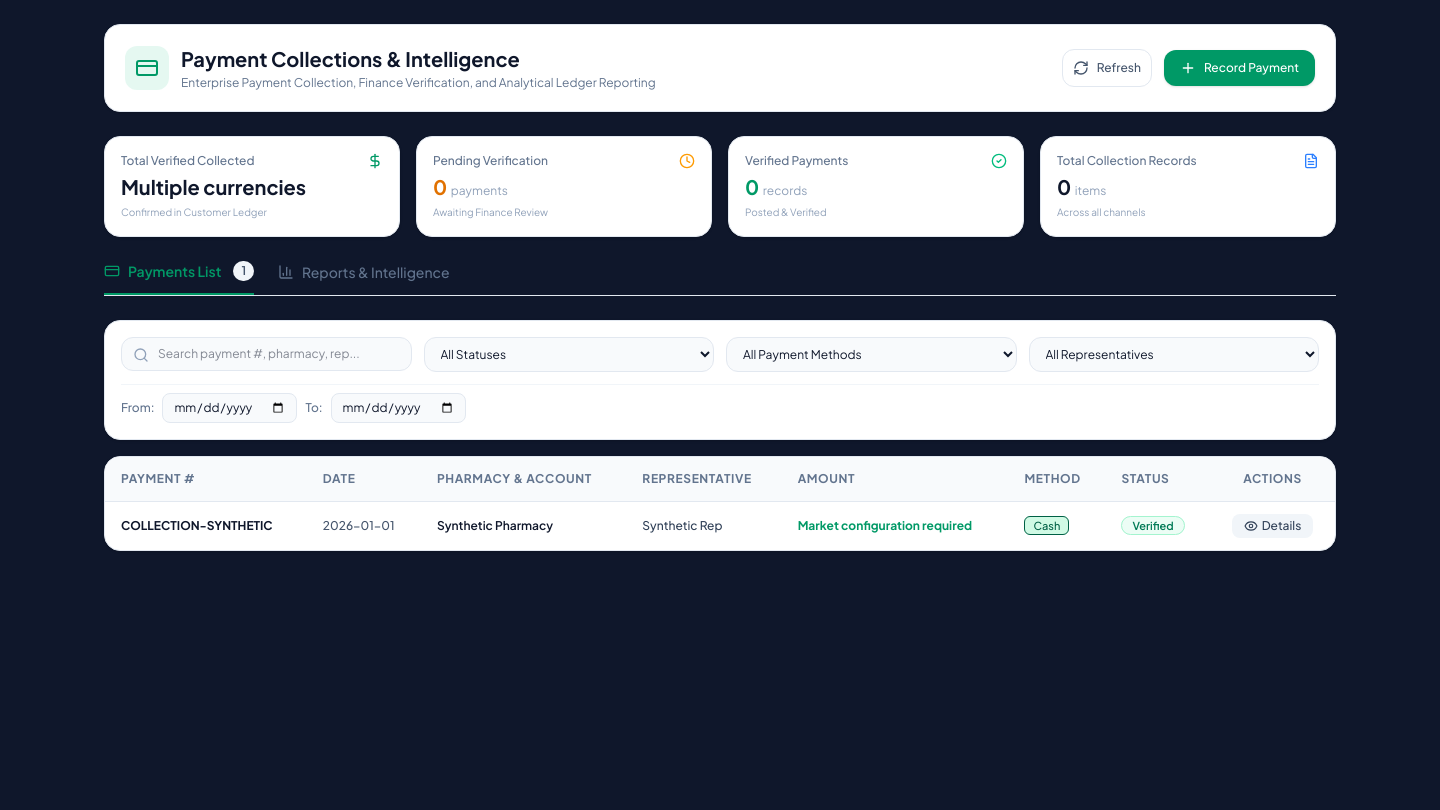
Test: failed eligibility lookup never enables Reverse
Click the button "Details".
click(1273, 526)  # box [1232,514,1313,538]
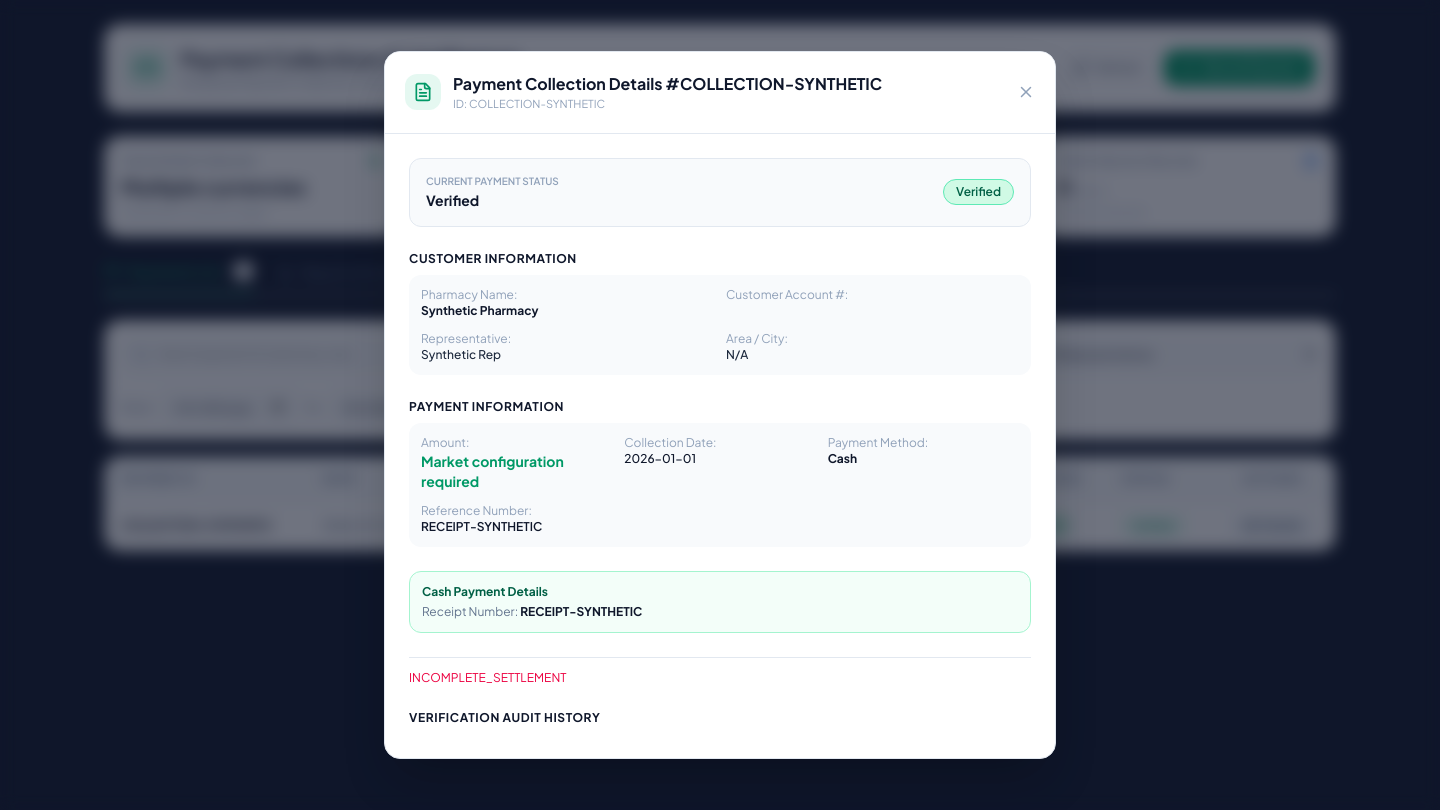
Expected: the text "INCOMPLETE_SETTLEMENT" is shown, [409,670,566,685]
